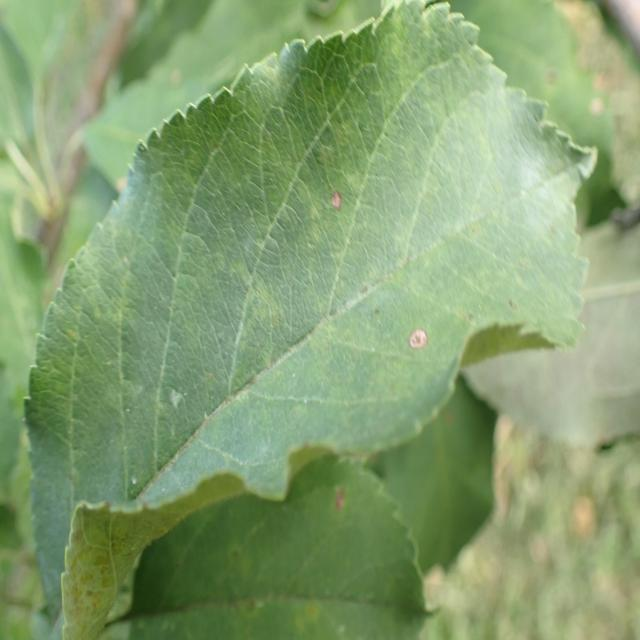frog-eye-leaf-spot: (22, 1, 600, 590)
